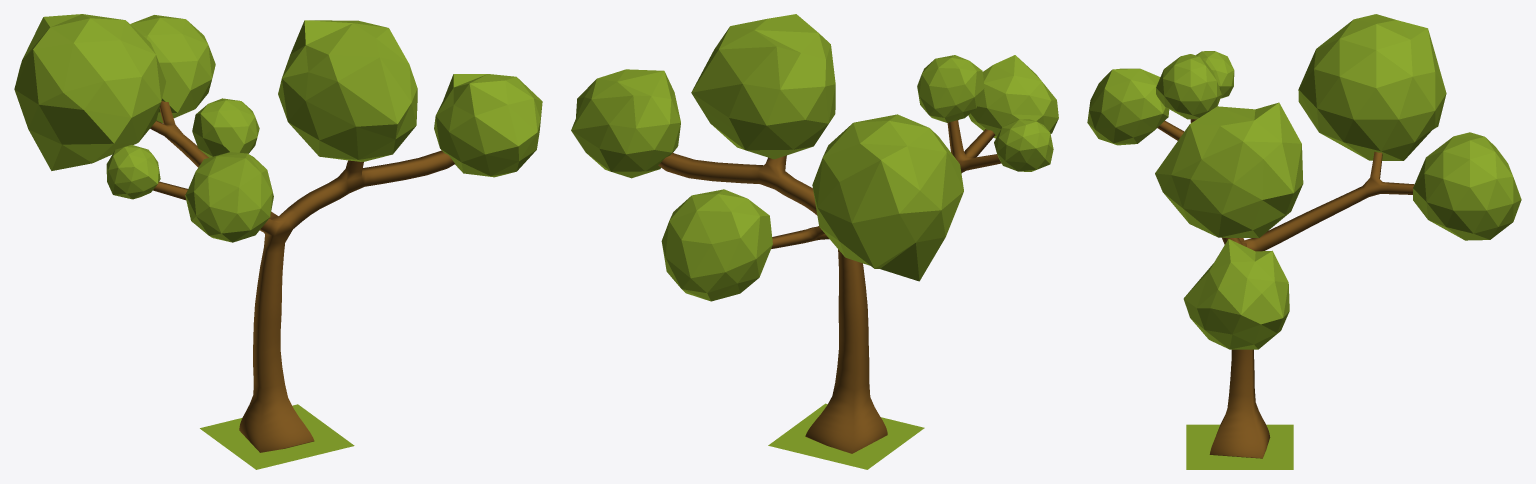
Rendered from Tree.fbx.
3 renders of one model, left to right at view 1: azimuth 30°, elevation 25°; view 2: azimuth 150°, elevation 25°; view 3: azimuth 270°, elevation 25°, orthographic. The views are drawn at different scales.
Parts seen in each view (by area): view 1: Icosphere.001, Plane.001, Icosphere.005, Icosphere.006, Icosphere.004, Icosphere, Icosphere.002, Icosphere.003; view 2: Icosphere.001, Plane.001, Icosphere.005, Icosphere, Icosphere.006, Icosphere.004, Icosphere.002, Icosphere.003; view 3: Icosphere.001, Icosphere.005, Plane.001, Icosphere, Icosphere.006, Icosphere.004, Icosphere.002, Icosphere.003.
Part boxes in pixels (x1,y1,x2,y2): Icosphere.001: (14, 14, 165, 170); Plane.001: (150, 101, 454, 469); Icosphere.005: (278, 20, 417, 161); Icosphere.006: (434, 74, 542, 177); Icosphere.004: (185, 152, 273, 242); Icosphere: (130, 15, 215, 122); Icosphere.002: (192, 98, 259, 157); Icosphere.003: (106, 145, 160, 199); Icosphere.001: (812, 114, 963, 281); Plane.001: (658, 120, 1001, 469); Icosphere.005: (691, 14, 835, 159); Icosphere: (661, 189, 772, 301); Icosphere.006: (571, 69, 680, 178); Icosphere.004: (968, 55, 1058, 138); Icosphere.002: (917, 55, 984, 122); Icosphere.003: (994, 119, 1053, 171); Icosphere.001: (1298, 14, 1446, 160); Icosphere.005: (1155, 102, 1303, 238); Plane.001: (1157, 119, 1414, 469); Icosphere: (1413, 132, 1521, 240); Icosphere.006: (1183, 239, 1289, 349); Icosphere.004: (1087, 68, 1169, 145); Icosphere.002: (1156, 54, 1221, 119); Icosphere.003: (1196, 51, 1234, 98).
Size of the model in its own units: 913 by 768 by 810.
